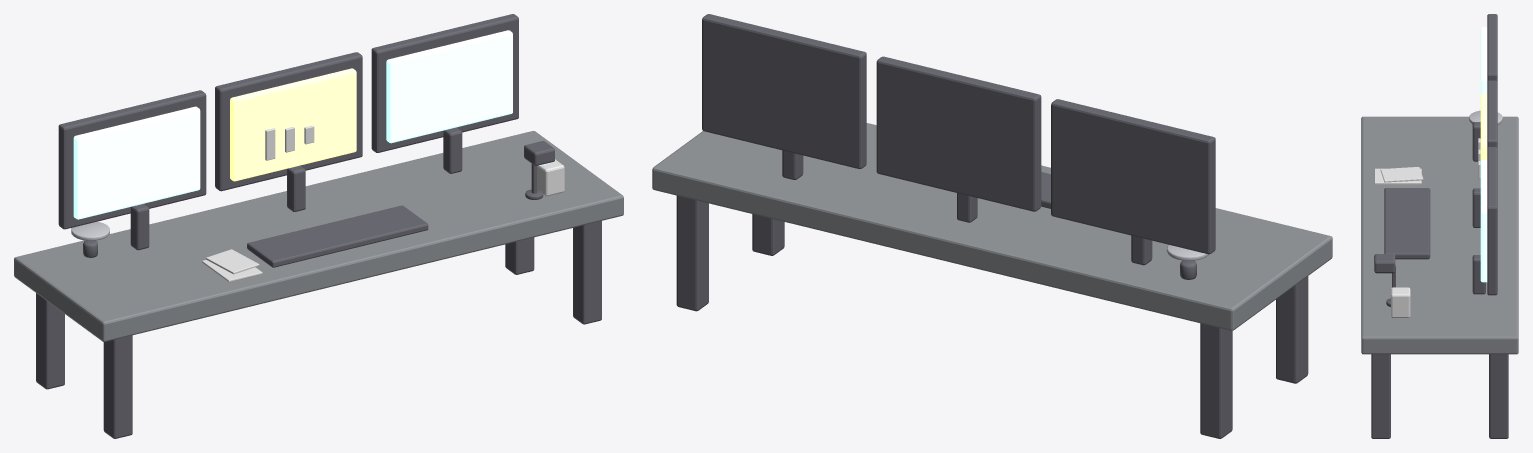
File: метеостанция.glb
3 renders of one model, left to right at view 1: azimuth 30°, elevation 25°; view 2: azimuth 150°, elevation 25°; view 3: azimuth 270°, elevation 25°, orthographic. The views are drawn at different scales.
Visible parts, largest first — view 1: метеостанция; view 2: метеостанция; view 3: метеостанция.
Part boxes in pixels (left/top/right/bottom): метеостанция: left=14, top=14, right=623, bottom=438; метеостанция: left=652, top=14, right=1332, bottom=438; метеостанция: left=1361, top=14, right=1518, bottom=438.
Size of the model in its own units: 4 by 1.9 by 1.2.
